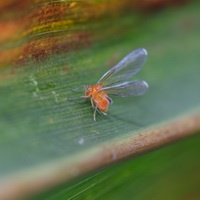insect: (68, 48, 148, 120)
